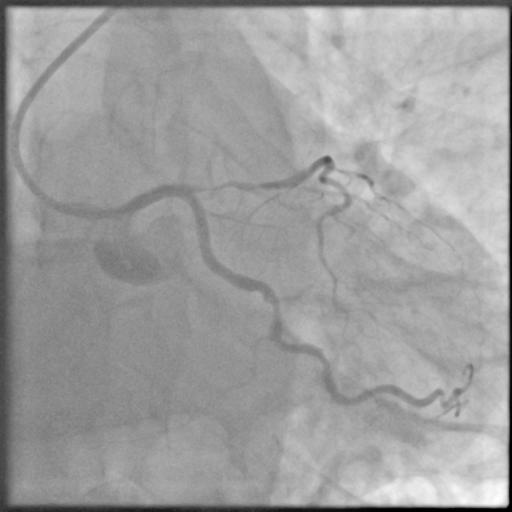Stenosis: (190, 176, 267, 190)
